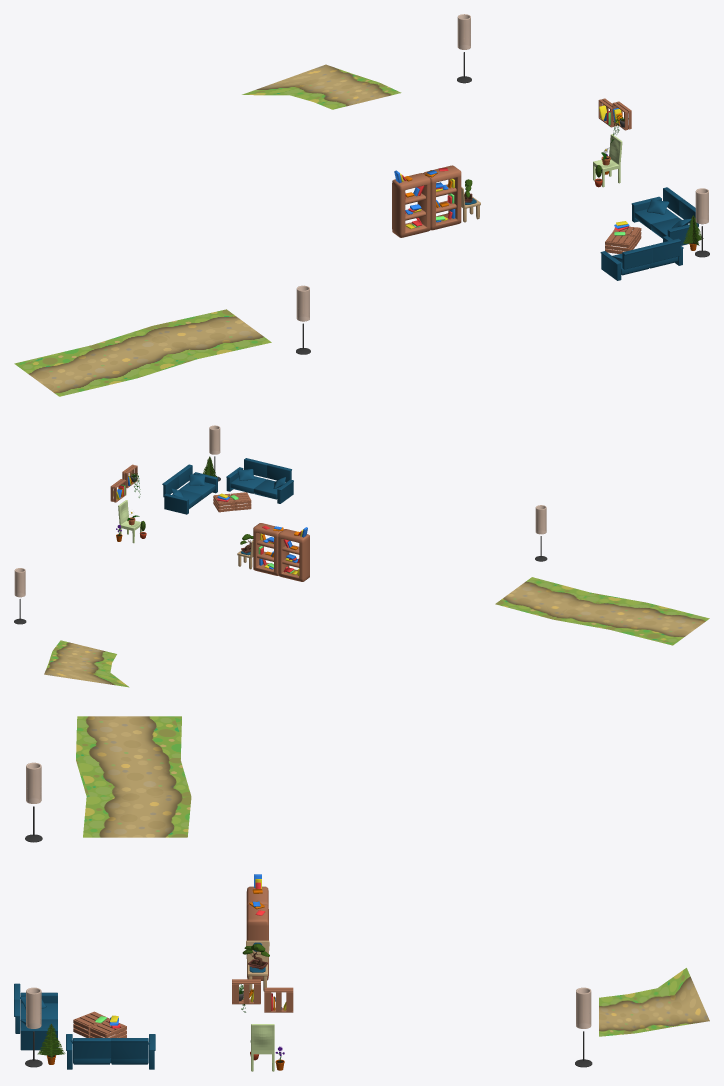
File: dLShape Sampleroom - Deko.glb
The picture shows the model from 3 angles, top to bottom: view 1: azimuth 30°, elevation 25°; view 2: azimuth 150°, elevation 25°; view 3: azimuth 270°, elevation 25°; orthographic projection. The views are drawn at different scales.
Parts seen in each view (by area): view 1: Deko_L_Shape suburb; view 2: Deko_L_Shape suburb; view 3: Deko_L_Shape suburb.
Part boxes in pixels (left/top/right/bottom): Deko_L_Shape suburb: left=14, top=14, right=709, bottom=396; Deko_L_Shape suburb: left=14, top=425, right=709, bottom=687; Deko_L_Shape suburb: left=14, top=716, right=709, bottom=1071.
Bounding box in the file's own units: 18.47 × 2.24 × 15.06.
6 materials, 2 textured.
